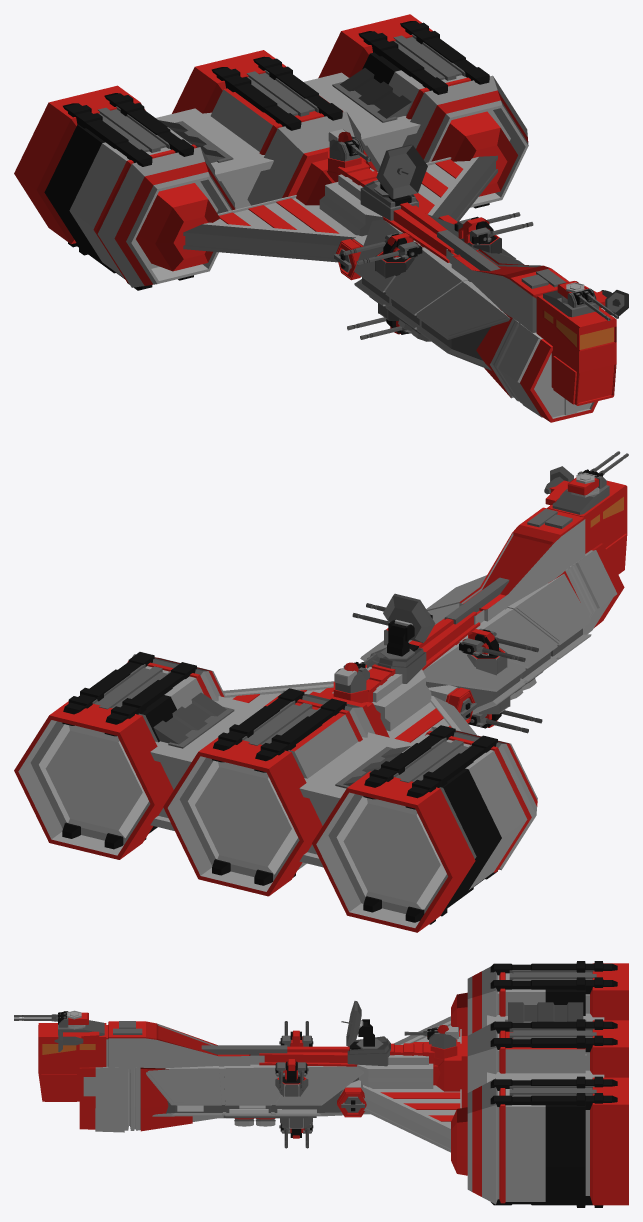
File: apollo1.obj
The picture shows the model from 3 angles, top to bottom: view 1: azimuth 30°, elevation 25°; view 2: azimuth 150°, elevation 25°; view 3: azimuth 270°, elevation 25°; orthographic projection. The views are drawn at different scales.
Parts seen in each view (by area): view 1: Cube.002; view 2: Cube.002; view 3: Cube.002.
Part boxes in pixels (left/top/right/bottom): Cube.002: left=14, top=14, right=628, bottom=422; Cube.002: left=14, top=451, right=628, bottom=932; Cube.002: left=14, top=961, right=628, bottom=1207.
Bounding box in the file's own units: 1068 × 392 × 1647.
